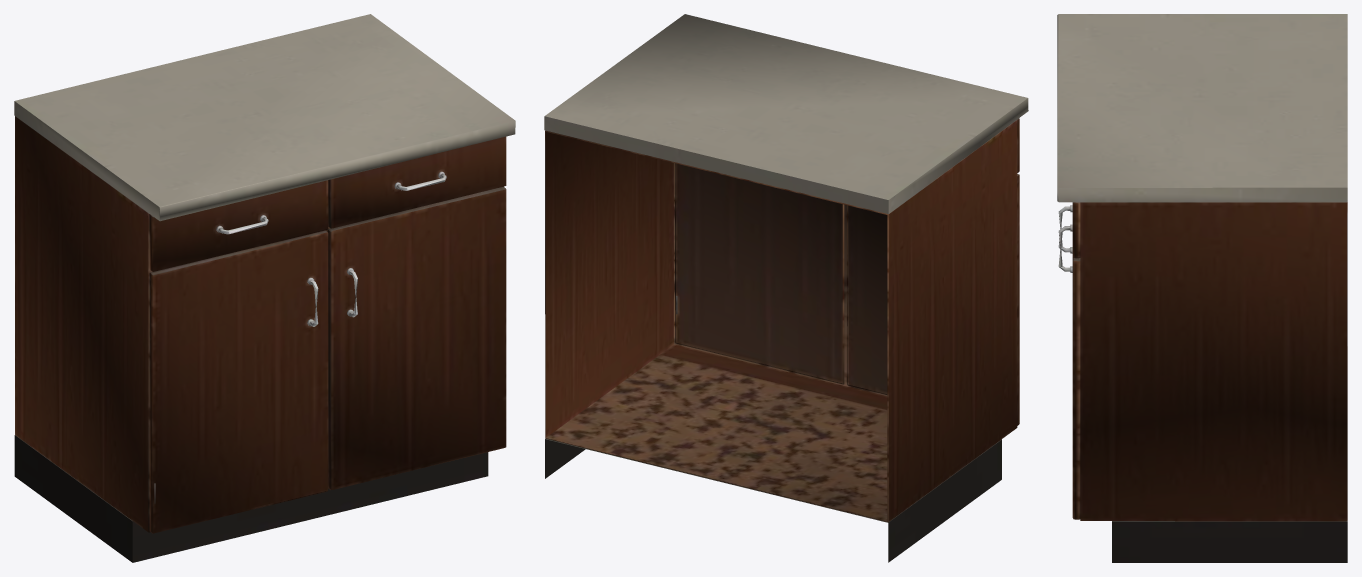
Rendered from kit_base_90-low.glb.
3 renders of one model, left to right at view 1: azimuth 30°, elevation 25°; view 2: azimuth 150°, elevation 25°; view 3: azimuth 270°, elevation 25°, orthographic. The views are drawn at different scales.
Parts seen in each view (by area): view 1: kit_base_90-low; view 2: kit_base_90-low; view 3: kit_base_90-low.
Part boxes in pixels (x1,y1,x2,y2): kit_base_90-low: (14,14,515,562); kit_base_90-low: (544,14,1028,562); kit_base_90-low: (1057,14,1347,562).
Size of the model in its own units: 0.898 by 0.905 by 0.6343.
Materials: 1 (1 with a texture image).
